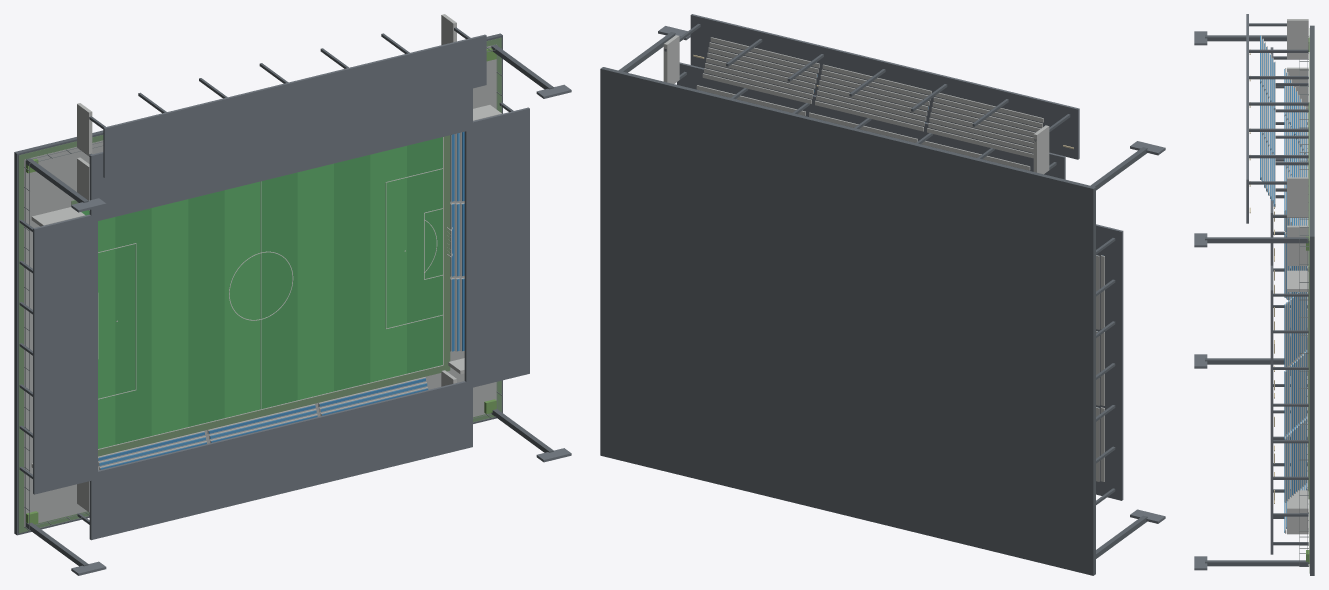
Rendered from stadium_level_4.glb.
3 views of the same model, side by side, from view 1: azimuth 30°, elevation 25°; view 2: azimuth 150°, elevation 25°; view 3: azimuth 270°, elevation 25° (orthographic). The views are drawn at different scales.
Visible parts, largest first — view 1: roof, grass3, grass2, paving, ground, concrete, dark, blue, white, blue2, rail; view 2: dark, roof, concrete; view 3: concrete, dark, roof, blue2, blue, rail, ground, paving, white, light.
Boxes of the visible parts, x1,y1,x2,y2 form: roof: (33, 34, 571, 575); grass3: (115, 137, 442, 444); grass2: (81, 146, 406, 448); paving: (24, 44, 496, 526); ground: (18, 37, 501, 533); concrete: (31, 14, 501, 512); dark: (14, 27, 553, 566); blue: (98, 131, 464, 469); white: (98, 137, 452, 449); blue2: (99, 133, 459, 465); rail: (24, 45, 502, 530); dark: (600, 24, 1147, 575); roof: (658, 14, 1165, 523); concrete: (663, 35, 1104, 481); concrete: (1261, 19, 1308, 534); dark: (1205, 23, 1314, 575); roof: (1194, 14, 1273, 570); blue2: (1260, 35, 1304, 532); blue: (1262, 39, 1306, 528); rail: (1299, 36, 1308, 566); ground: (1308, 28, 1309, 573); paving: (1309, 35, 1309, 566); white: (1308, 112, 1308, 489); light: (1249, 49, 1274, 503).
Size of the model in its own units: 143 by 116 by 33.7.
